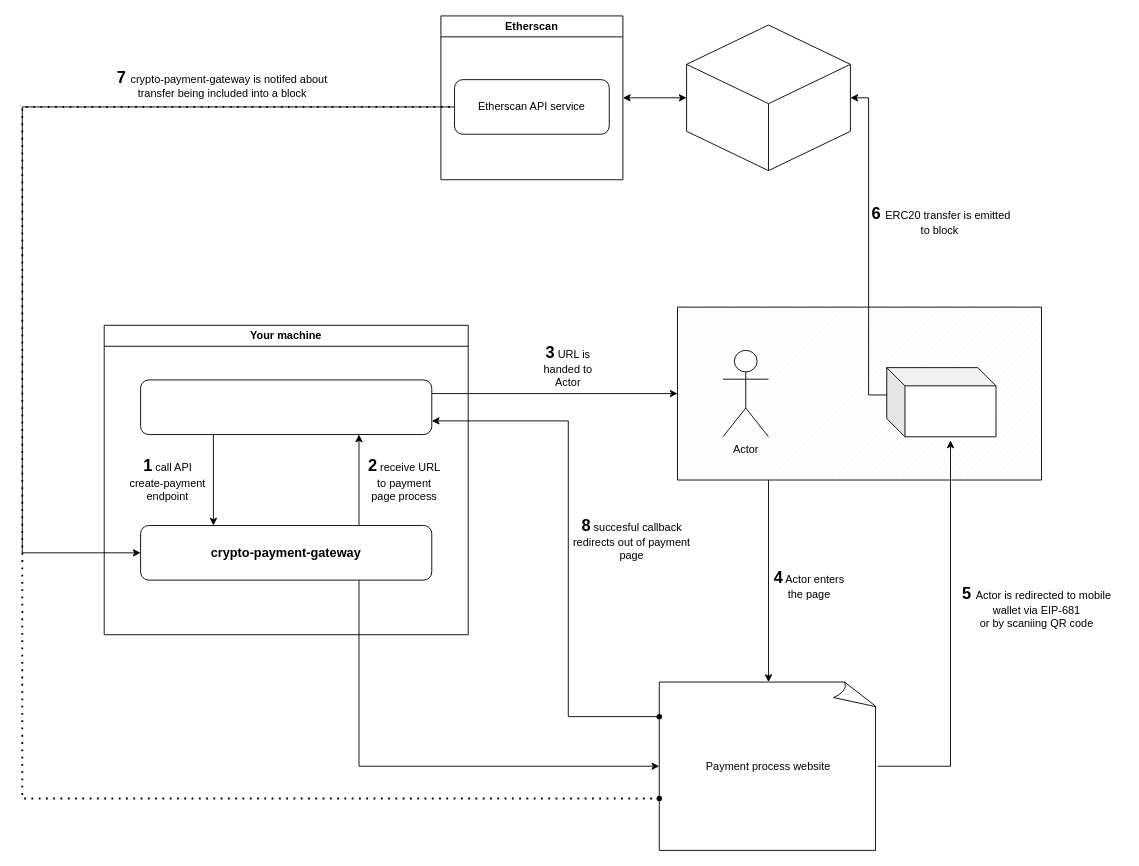
Image size: 1139x866. Some labels were removed from this diagram. The shapes that lost their labels are listed below. From the top down, each one's centre as x and y in pixels, then its label:
At point 768,97: "Ethereum blockchain".
At point 286,407: "Your servivce".
At point 941,402: "Actor's crypto wallet".
